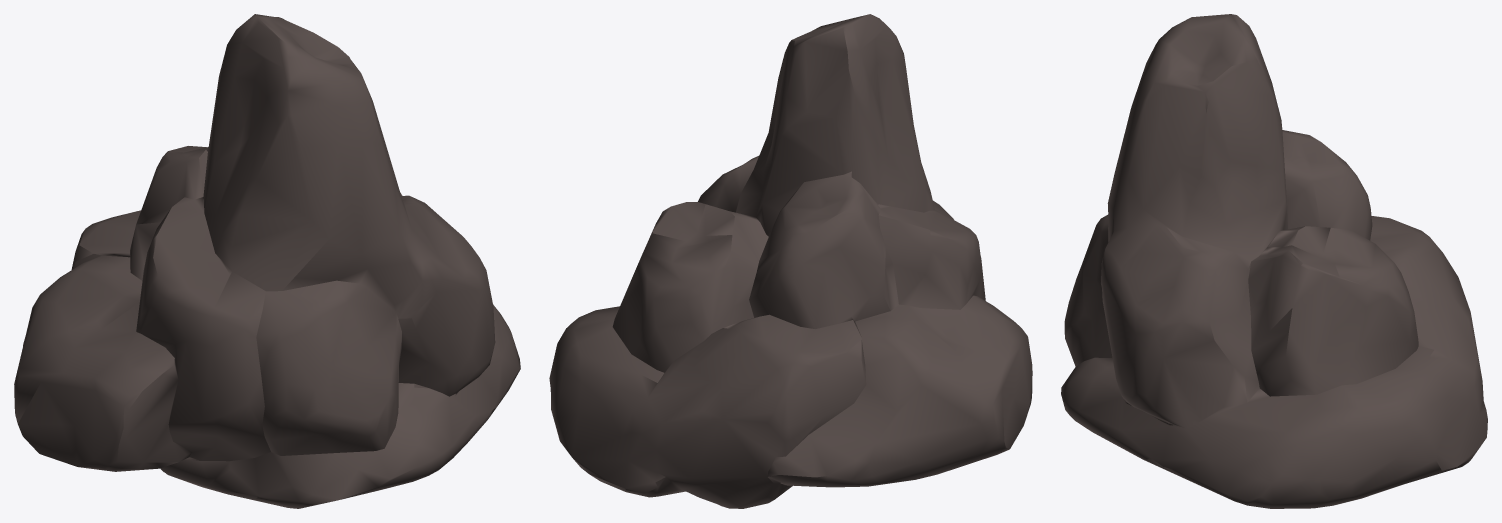
Rendered from Environment_Cliff3.low.gltf.
3 views of the same model, side by side, from view 1: azimuth 30°, elevation 25°; view 2: azimuth 150°, elevation 25°; view 3: azimuth 270°, elevation 25° (orthographic). The views are drawn at different scales.
Parts seen in each view (by area): view 1: Environment_Cliff3; view 2: Environment_Cliff3; view 3: Environment_Cliff3.
Part boxes in pixels (box(x1,y1,x2,y2)): Environment_Cliff3: box(14, 14, 520, 508); Environment_Cliff3: box(549, 14, 1032, 508); Environment_Cliff3: box(1061, 14, 1487, 508).
Bounding box in the file's own units: 6.85 × 6.16 × 5.93.
Materials: 1 (1 with a texture image).
